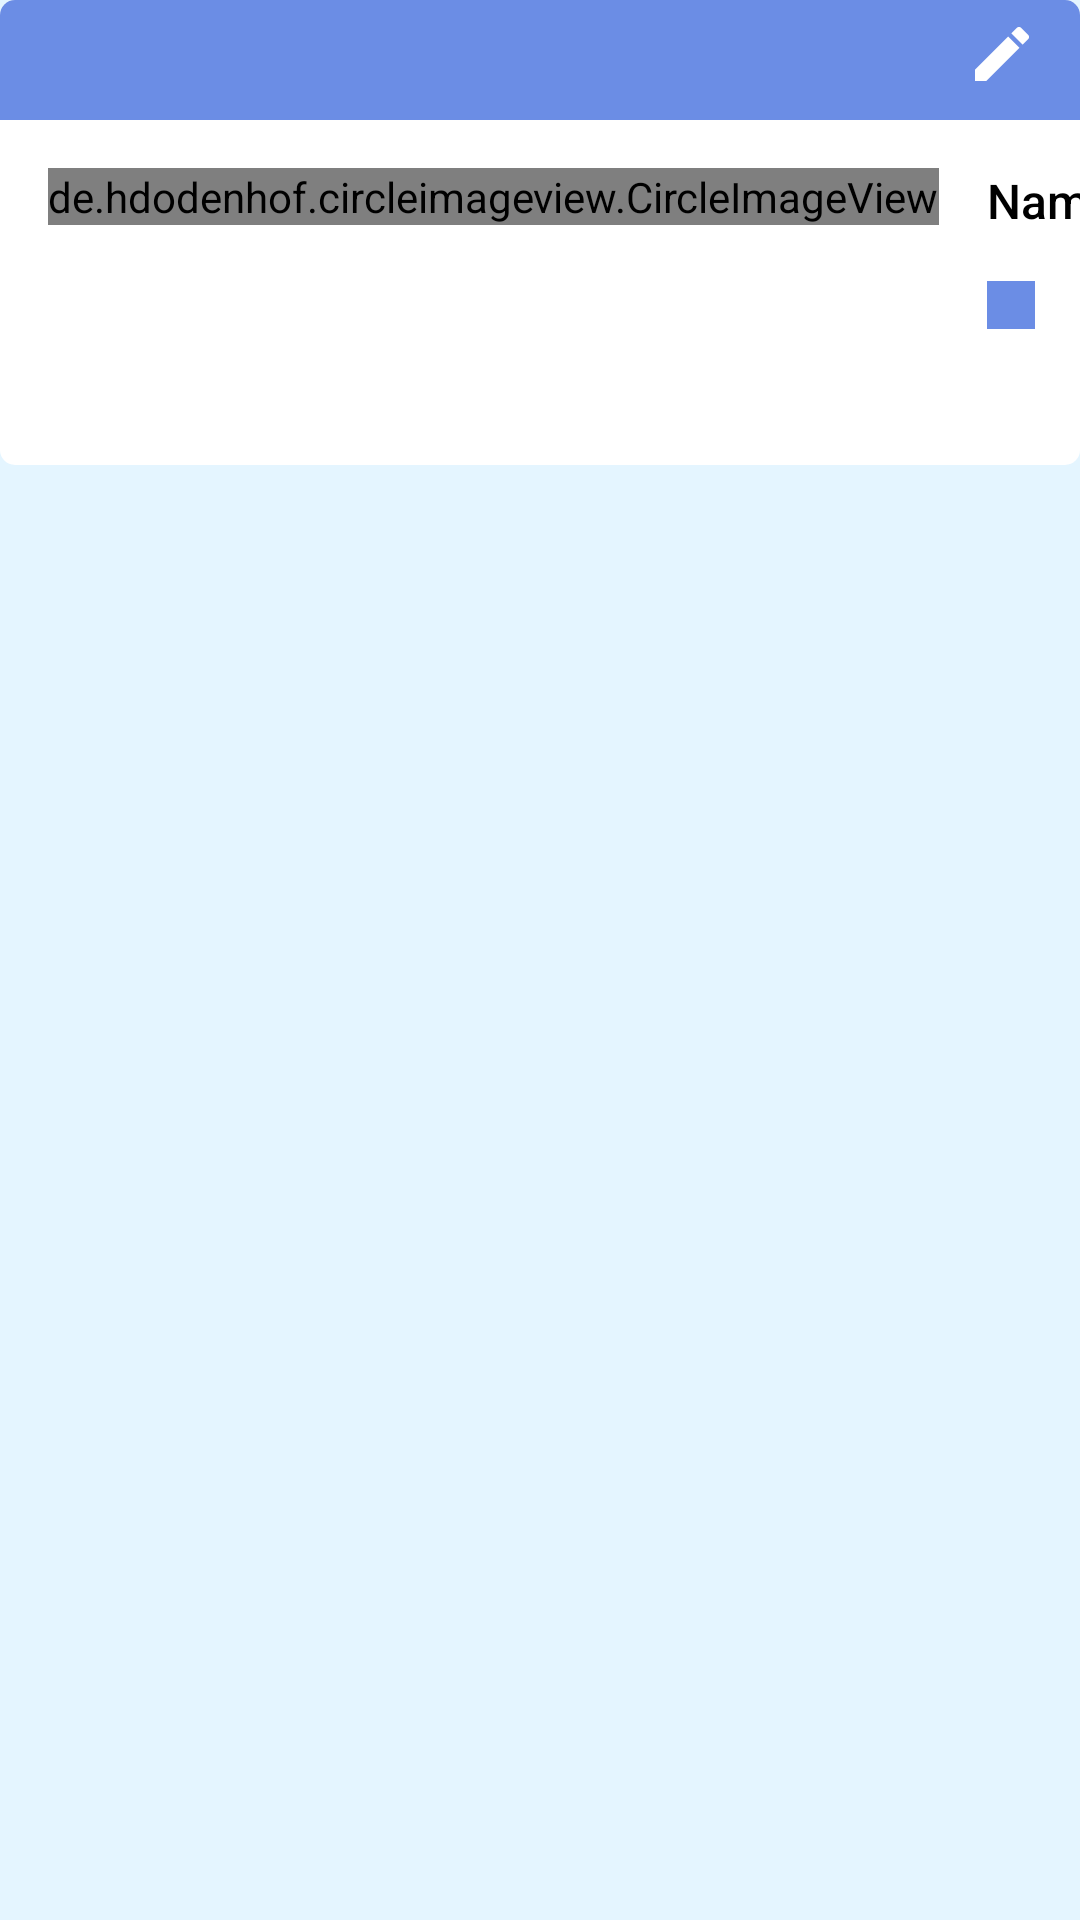

Point at icon controls on the screen. Image size 1080×1920, points as (x=x, y=y).
pen: (x=1002, y=54)
